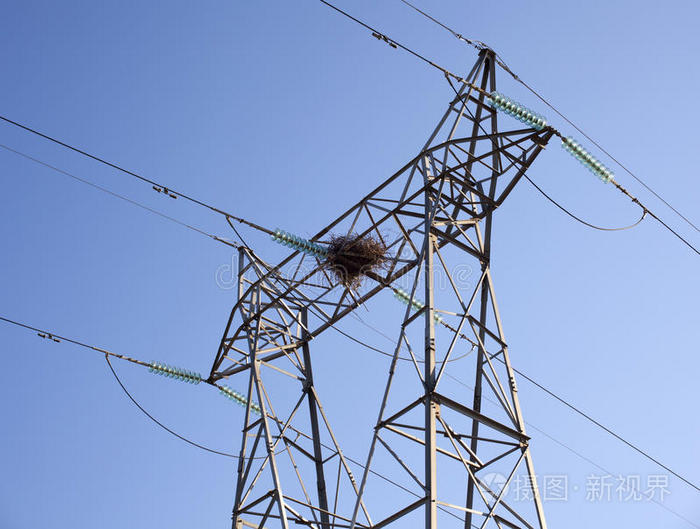insulator: (488, 87, 549, 131), (561, 138, 614, 183), (390, 286, 447, 325), (267, 225, 326, 258), (216, 381, 267, 417), (145, 358, 202, 388)
